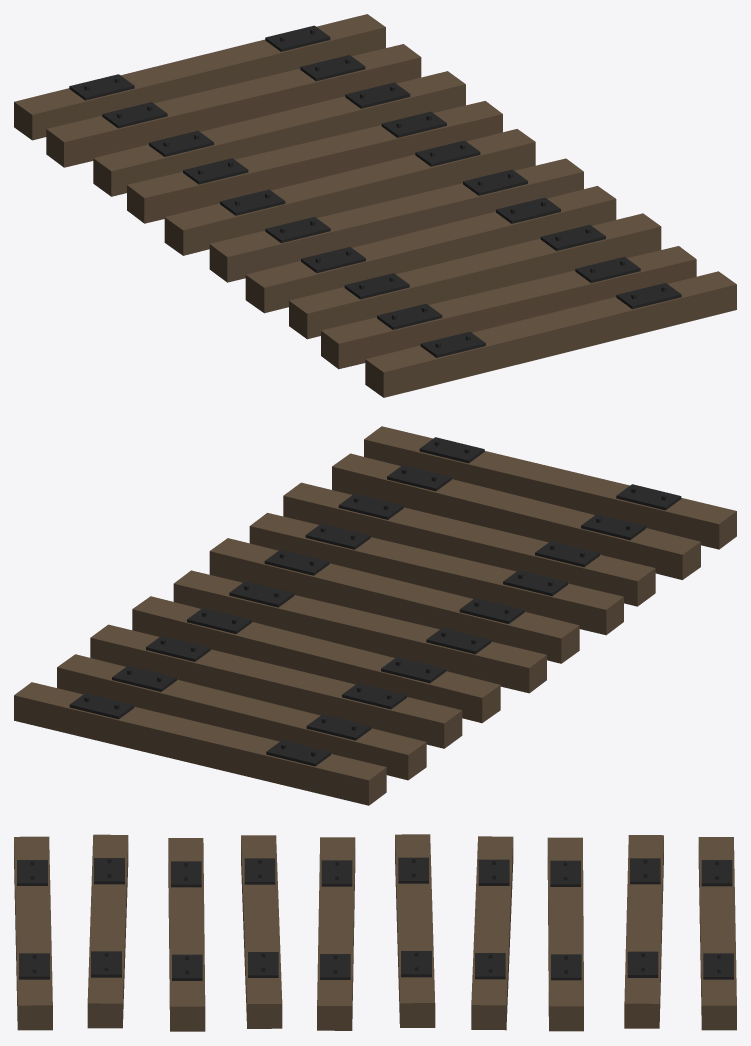
File: tie_section.glb
The picture shows the model from 3 angles, top to bottom: view 1: azimuth 30°, elevation 25°; view 2: azimuth 150°, elevation 25°; view 3: azimuth 270°, elevation 25°; orthographic projection. The views are drawn at different scales.
Visible parts, largest first — view 1: Fixed_Wood, Fixed_Black; view 2: Fixed_Wood, Fixed_Black; view 3: Fixed_Wood, Fixed_Black.
Part boxes in pixels (left/top/right/bottom): Fixed_Wood: left=14, top=14, right=736, bottom=397; Fixed_Black: left=69, top=25, right=681, bottom=357; Fixed_Wood: left=14, top=426, right=736, bottom=805; Fixed_Black: left=69, top=437, right=681, bottom=766; Fixed_Wood: left=14, top=834, right=736, bottom=1031; Fixed_Black: left=17, top=857, right=733, bottom=980.
Size of the model in its own units: 2.65 by 0.2228 by 4.69.
